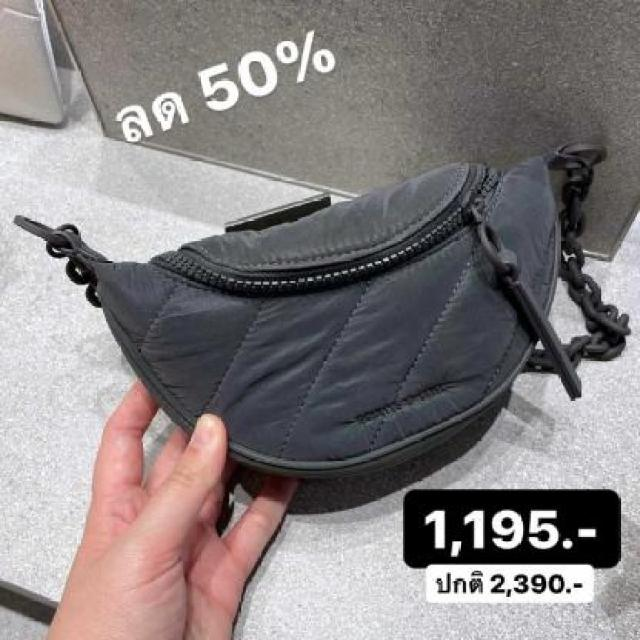Bag: (4, 116, 640, 577)
